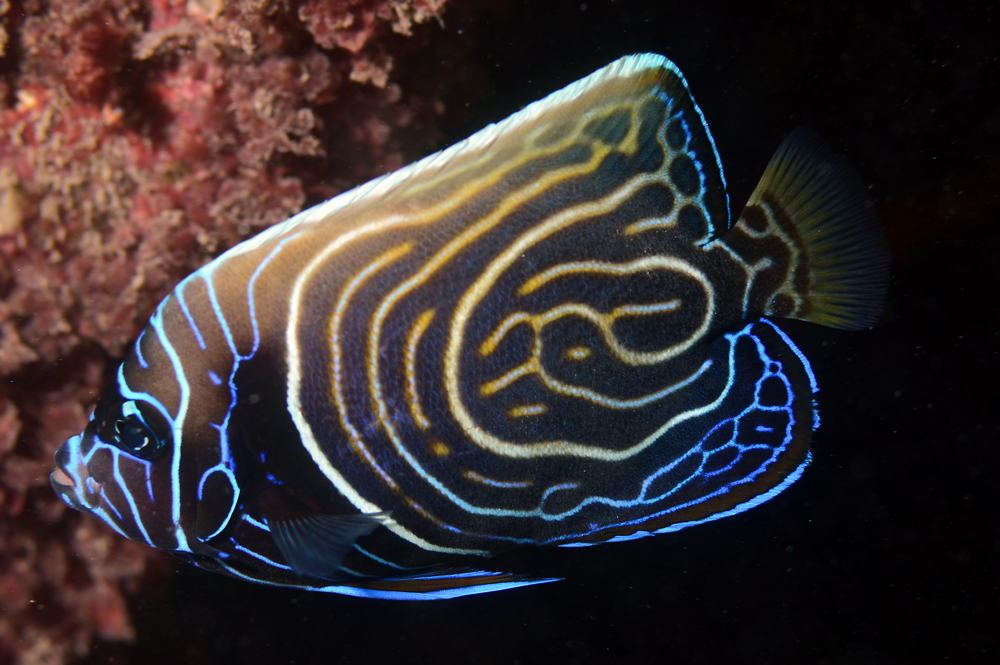Pomacanthus_imperator: (37, 32, 875, 588)
